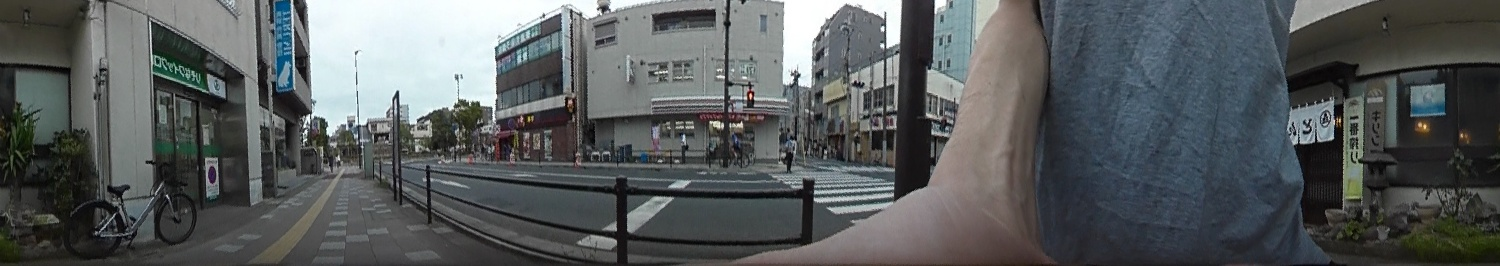difficult_person: (782, 135, 796, 171), (729, 131, 741, 161), (678, 131, 689, 161)
